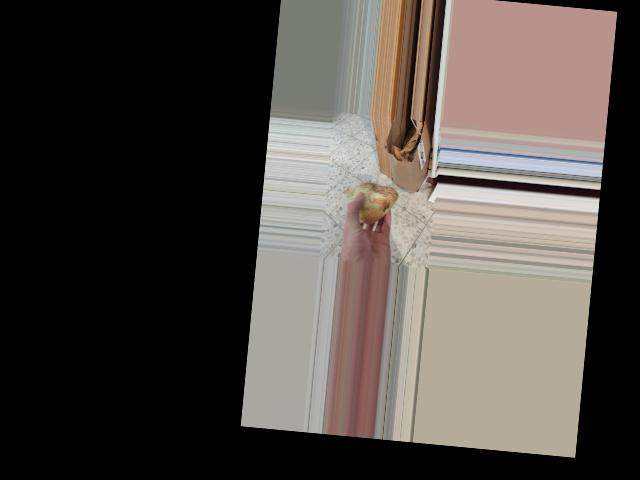onion: (344, 174, 399, 231)
